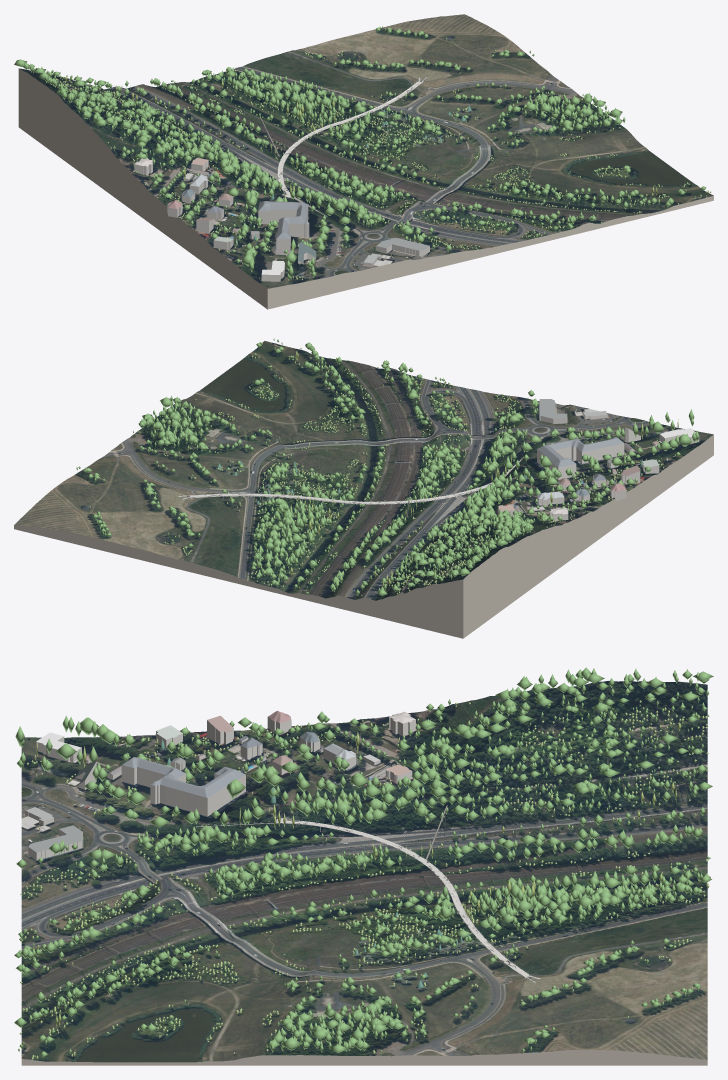
3 renders of one model, top to bottom at view 1: azimuth 30°, elevation 25°; view 2: azimuth 150°, elevation 25°; view 3: azimuth 270°, elevation 25°, orthographic. The views are drawn at different scales.
Visible parts, largest first — view 1: terrain, trees, base, buildings, s1; view 2: terrain, trees, base, buildings, s1; view 3: terrain, trees, buildings, base, s1.
Part boxes in pixels (box(x1,y1,x2,y2)): terrain: box(19, 14, 713, 288); trees: box(14, 26, 711, 280); base: box(18, 69, 713, 309); buildings: box(134, 158, 429, 281); s1: box(277, 81, 422, 216); terrain: box(14, 341, 713, 600); trees: box(76, 338, 699, 596); base: box(14, 434, 713, 638); buildings: box(498, 399, 699, 521); s1: box(190, 457, 523, 504); terrain: box(21, 681, 707, 1062); trees: box(14, 667, 713, 1060); buildings: box(25, 710, 415, 860); base: box(21, 1050, 707, 1065); s1: box(196, 817, 530, 977).
Size of the model in its own units: 12.36 by 1.85 by 11.83.
11 materials, 1 textured.
